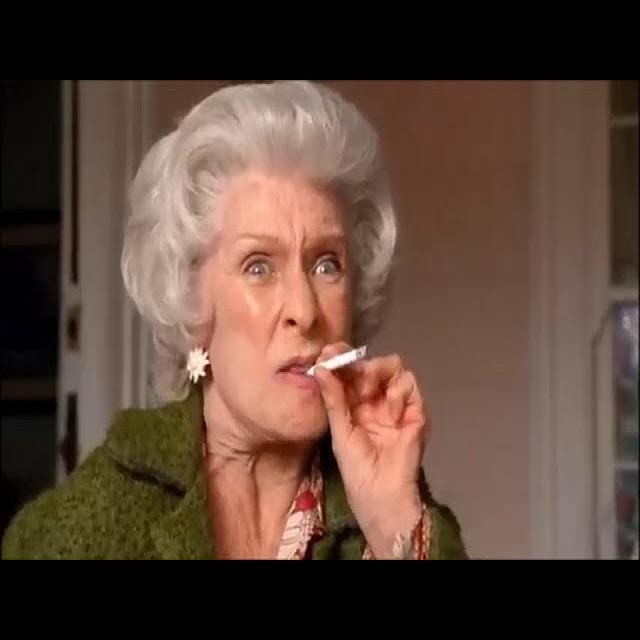smoke: (328, 346, 371, 374)
